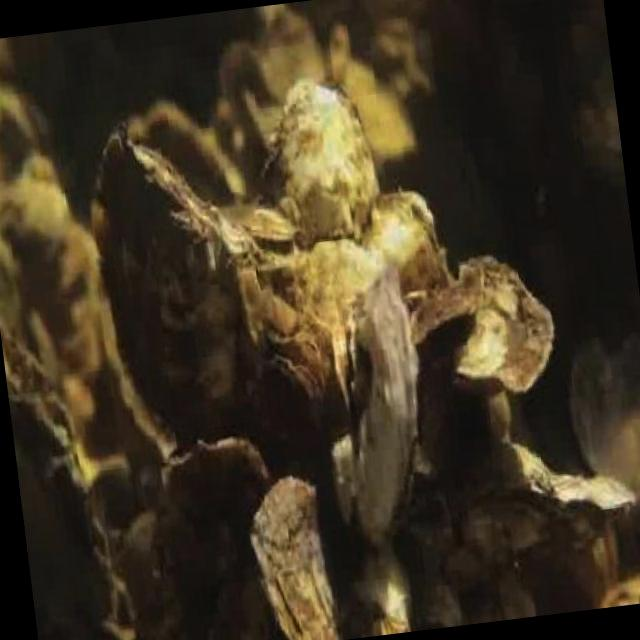Oyster-Closed: (0, 281, 144, 639), (96, 123, 251, 440), (252, 75, 377, 243), (407, 253, 554, 392), (345, 278, 416, 552), (247, 473, 356, 639), (164, 436, 272, 579), (125, 101, 254, 207), (267, 241, 381, 354), (246, 353, 328, 482), (456, 489, 587, 563), (365, 188, 449, 294), (333, 61, 418, 157), (350, 545, 410, 631), (255, 12, 321, 82), (549, 474, 639, 519), (218, 44, 266, 116), (221, 198, 297, 240), (591, 523, 623, 599)
Oyster-Open: (329, 311, 366, 420), (453, 147, 493, 229)
